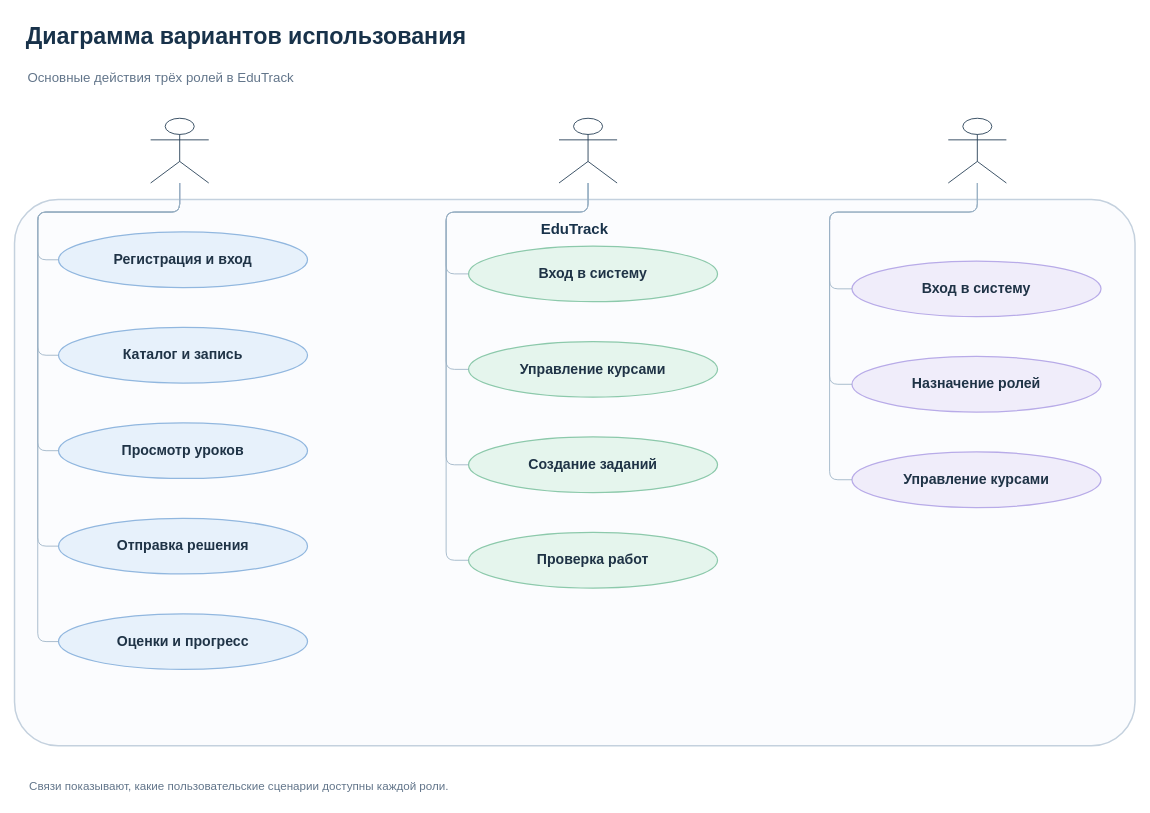
The diagram is 1150 pixels wide and 813 high, and some of its shapes have lost their labels. The box of each missing label's shape, as (x1, y1, x2, y2) in pixels:
Администратор: (947, 117, 1006, 183)
Преподаватель: (558, 117, 617, 183)
Студент: (150, 117, 209, 183)
